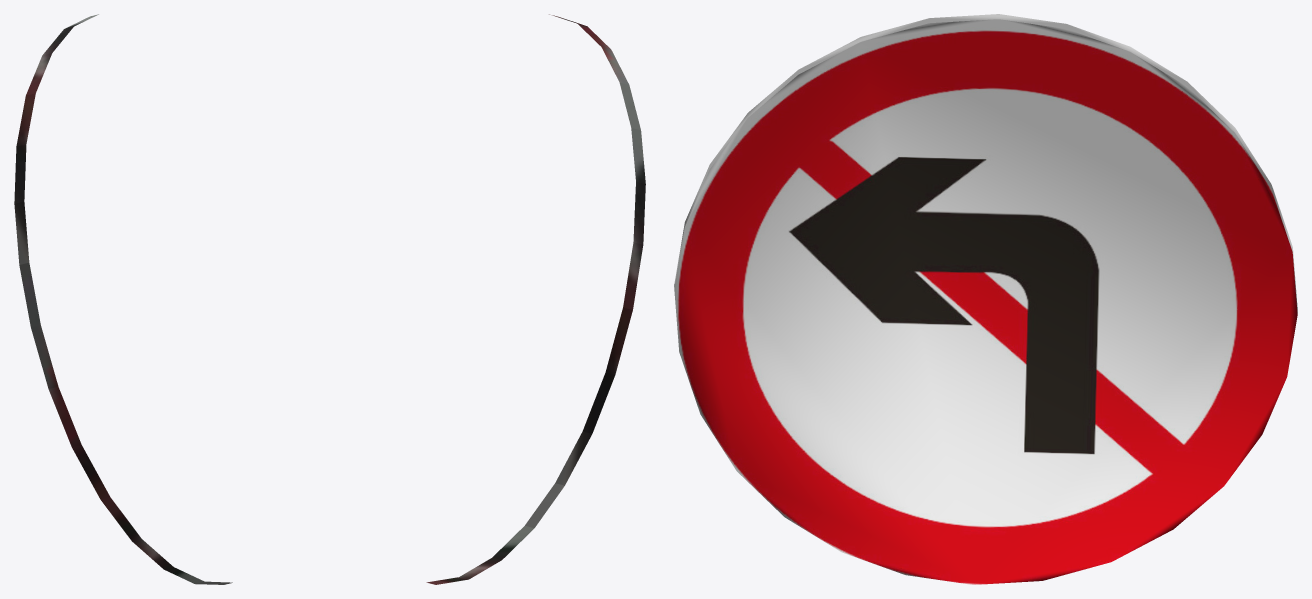
3 renders of one model, left to right at view 1: azimuth 30°, elevation 25°; view 2: azimuth 150°, elevation 25°; view 3: azimuth 270°, elevation 25°, orthographic. The views are drawn at different scales.
Parts seen in each view (by area): view 1: model08; view 2: model08; view 3: model08.
Part boxes in pixels (x1=…): model08: x1=14, y1=14, x2=232, y2=584; model08: x1=426, y1=14, x2=645, y2=584; model08: x1=674, y1=14, x2=1297, y2=584.
Bounding box in the file's own units: 0.0396 × 1.19 × 1.19.
3 materials, 3 textured.
